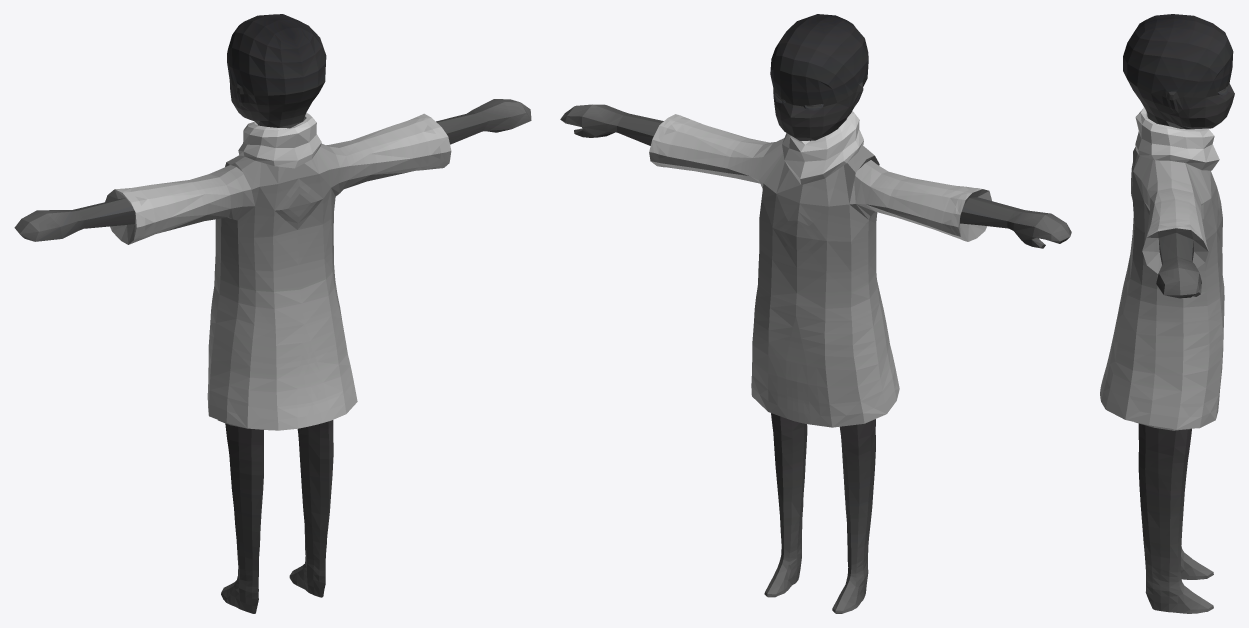
The model's file is CharSkyKid_Body_ShortPants.glb.
3 views of the same model, side by side, from view 1: azimuth 30°, elevation 25°; view 2: azimuth 150°, elevation 25°; view 3: azimuth 270°, elevation 25° (orthographic).
Visible parts, largest first — view 1: CharSkyKid_Body_ShortPants; view 2: CharSkyKid_Body_ShortPants; view 3: CharSkyKid_Body_ShortPants.
Boxes of the visible parts, x1,y1,x2,y2 form: CharSkyKid_Body_ShortPants: (14,14,531,613); CharSkyKid_Body_ShortPants: (560,14,1071,613); CharSkyKid_Body_ShortPants: (1100,14,1234,613).
Bounding box in the file's own units: 13.83 × 14.94 × 3.18.
Materials: 1 (1 with a texture image).
